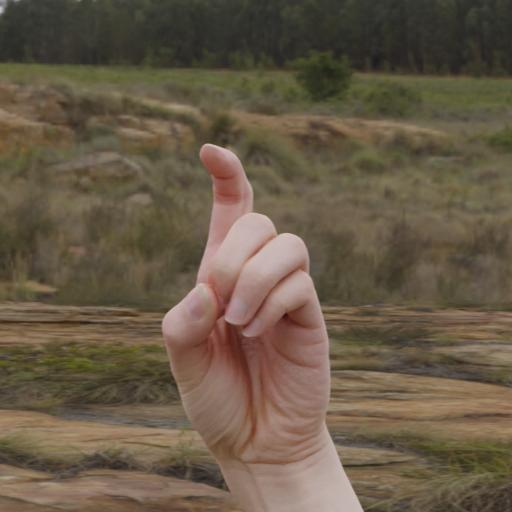X: (138, 120, 367, 506)
